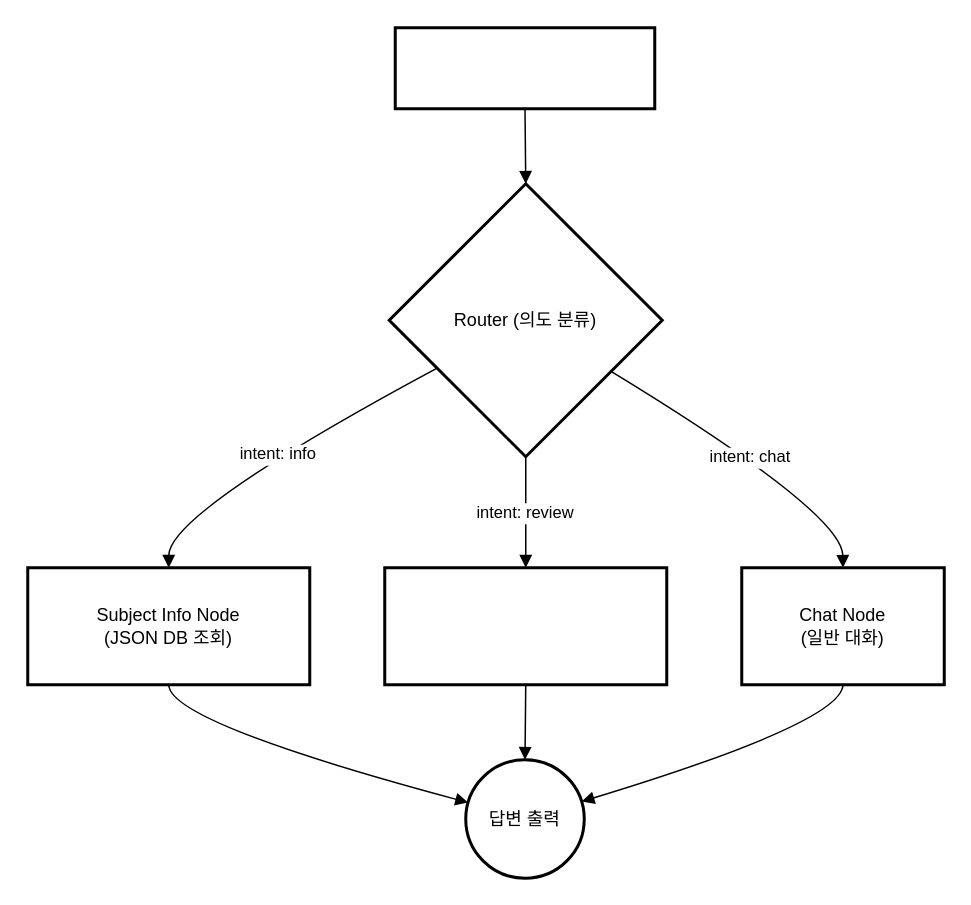
This 971x905 diagram has some shape labels left out. Here are the shapes that lost their labels. From the top down, the centre of each, then its label:
(524,68): 사용자 질문 입력
(525,626): RAG Review Node (FAISS 검색 + LLM)
